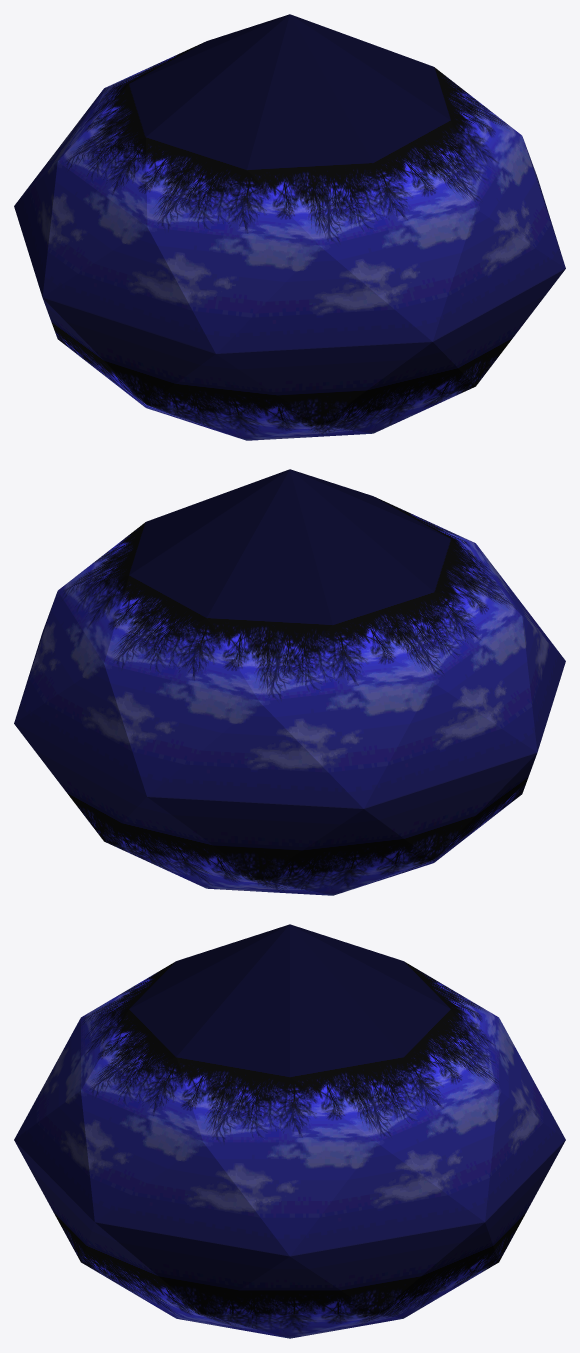
3 renders of one model, top to bottom at view 1: azimuth 30°, elevation 25°; view 2: azimuth 150°, elevation 25°; view 3: azimuth 270°, elevation 25°, orthographic. The views are drawn at different scales.
Visible parts, largest first — view 1: world_root; view 2: world_root; view 3: world_root.
Part boxes in pixels (box(x1,y1,x2,y2)): world_root: box(14, 14, 565, 440); world_root: box(14, 469, 565, 895); world_root: box(14, 924, 565, 1338).
Bounding box in the file's own units: 117964 × 81688 × 117964.
Materials: 3 (3 with a texture image).
